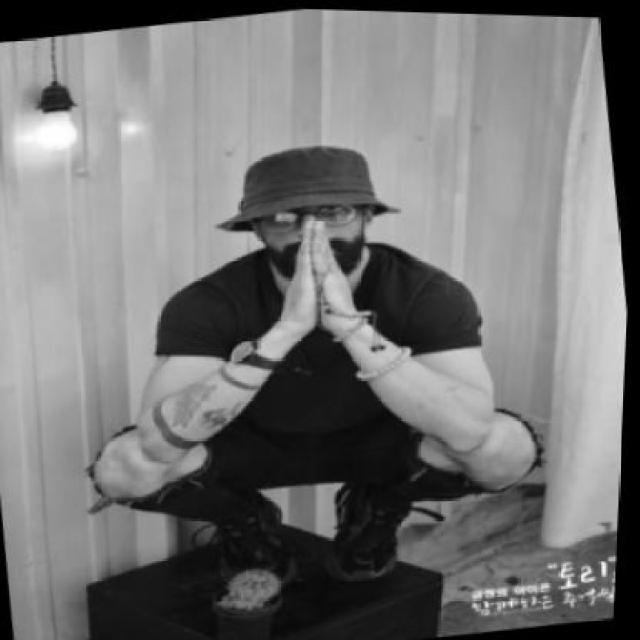hat: (193, 123, 409, 239)
